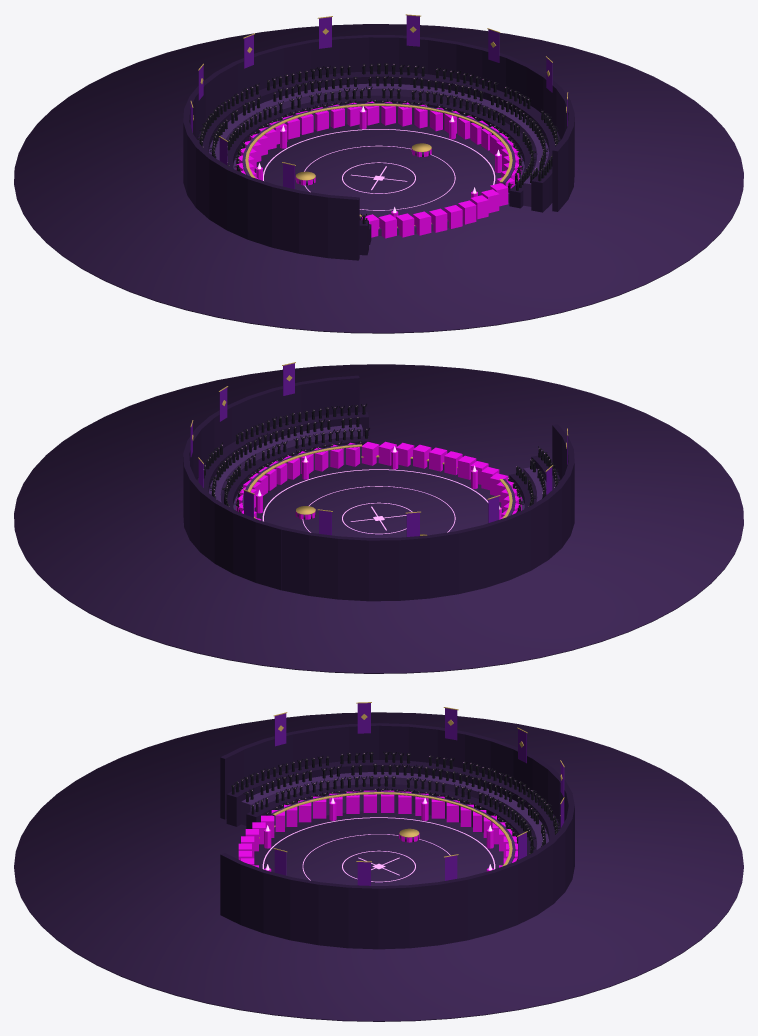
The model's file is palco.glb.
The picture shows the model from 3 angles, top to bottom: view 1: azimuth 30°, elevation 25°; view 2: azimuth 150°, elevation 25°; view 3: azimuth 270°, elevation 25°; orthographic projection.
Parts seen in each view (by area): view 1: GROUND_floor, static_MAT_CLOTH_palco_stone_dark, static_MAT_CLOTH_palco_stone, static_MAT_METAL_palco_gold, CROWD_4, CROWD_6, CROWD_7, CROWD_5, CROWD_3, CROWD_8, CROWD_2, CROWD_1; view 2: GROUND_floor, static_MAT_CLOTH_palco_stone_dark, static_MAT_CLOTH_palco_stone, CROWD_2, static_MAT_METAL_palco_gold, CROWD_3, CROWD_1, CROWD_12; view 3: GROUND_floor, static_MAT_CLOTH_palco_stone_dark, static_MAT_CLOTH_palco_stone, static_MAT_METAL_palco_gold, CROWD_9, CROWD_11, CROWD_8, CROWD_10, CROWD_7, CROWD_12.
Part boxes in pixels (box(x1,y1,x2,y2)): GROUND_floor: box(14, 24, 743, 333); static_MAT_CLOTH_palco_stone_dark: box(183, 35, 574, 260); static_MAT_CLOTH_palco_stone: box(209, 83, 548, 219); static_MAT_METAL_palco_gold: box(190, 14, 568, 216); CROWD_4: box(437, 68, 509, 120); CROWD_6: box(290, 64, 371, 110); CROWD_7: box(231, 74, 307, 128); CROWD_5: box(366, 63, 440, 106); CROWD_3: box(489, 89, 551, 143); CROWD_8: box(202, 99, 259, 155); CROWD_2: box(513, 119, 560, 177); CROWD_1: box(508, 154, 552, 192); GROUND_floor: box(14, 364, 743, 673); static_MAT_CLOTH_palco_stone_dark: box(183, 375, 574, 601); static_MAT_CLOTH_palco_stone: box(209, 424, 546, 519); CROWD_2: box(250, 409, 326, 461); static_MAT_METAL_palco_gold: box(190, 362, 568, 535); CROWD_3: box(208, 429, 272, 482); CROWD_1: box(318, 403, 369, 446); CROWD_12: box(508, 446, 555, 496); GROUND_floor: box(14, 712, 743, 1021); static_MAT_CLOTH_palco_stone_dark: box(220, 723, 574, 949); static_MAT_CLOTH_palco_stone: box(241, 772, 548, 864); static_MAT_METAL_palco_gold: box(265, 702, 564, 866); CROWD_9: box(409, 755, 492, 804); CROWD_11: box(265, 755, 346, 804); CROWD_8: box(469, 769, 540, 822); CROWD_10: box(340, 751, 414, 791); CROWD_7: box(505, 794, 560, 848); CROWD_12: box(231, 768, 288, 815).
Bounding box in the file's own units: 120 × 15.56 × 120.
